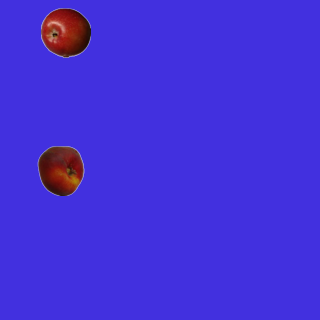Apple Braeburn: (40, 7, 90, 57)
Nectarine Flat: (35, 145, 85, 195)
